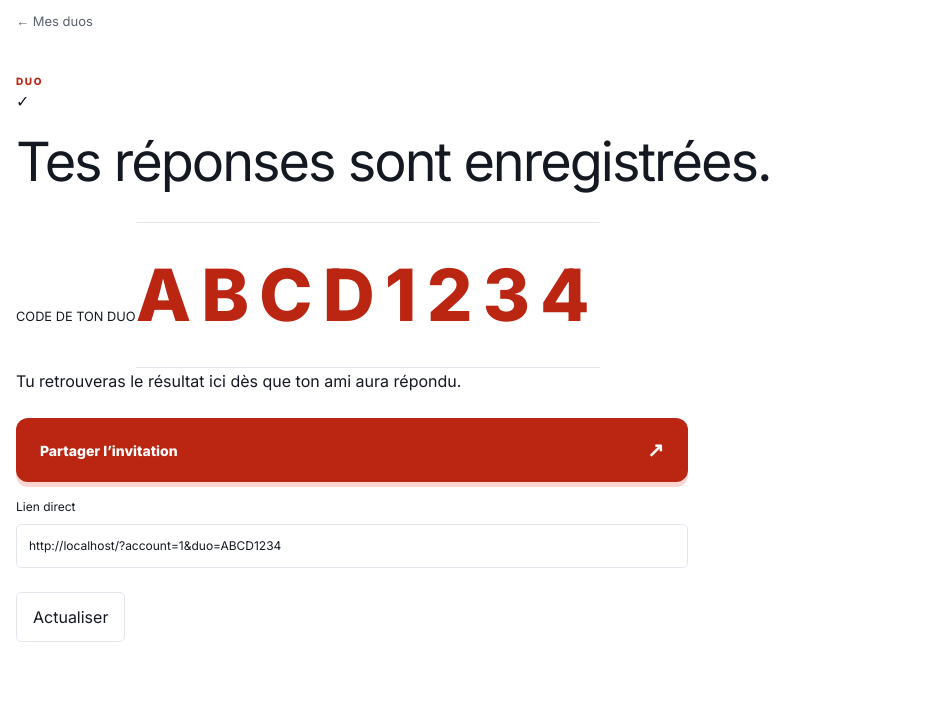
Test: ouvre un lien direct et permet de partager un Duo
Expected: the text "ABCD1234" is shown, x1=136 y1=222 x2=600 y2=368
Click the button "Partager l’invitation ↗". click: (109, 450)
box: x1=16 y1=418 x2=688 y2=482
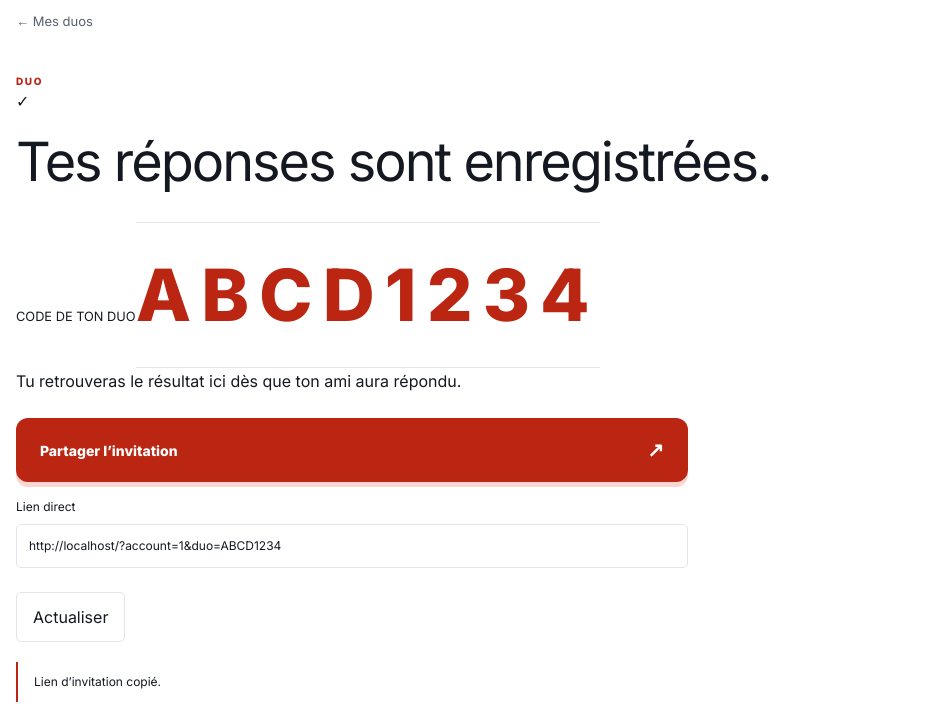
Result: the text "Lien d’invitation copié." is shown at x1=16 y1=662 x2=916 y2=702
